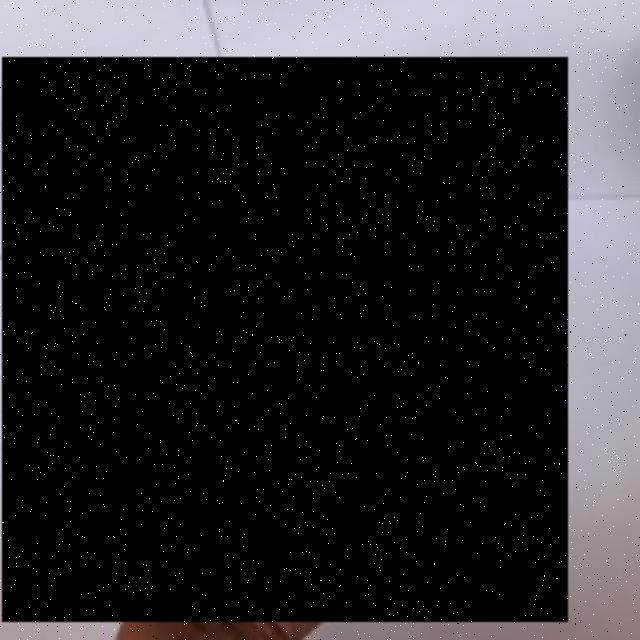Broccoli: (2, 58, 568, 623)
